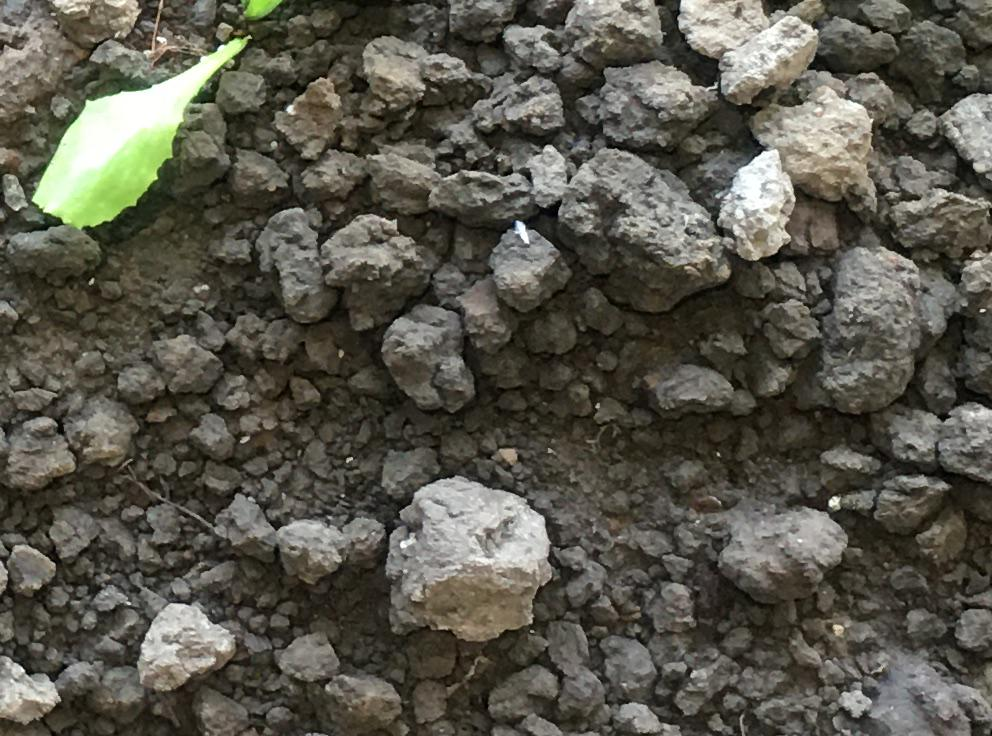block: (555, 144, 730, 312), (384, 476, 554, 647), (747, 90, 889, 214), (829, 245, 921, 417), (710, 504, 854, 607), (317, 213, 431, 335), (584, 56, 721, 152)
